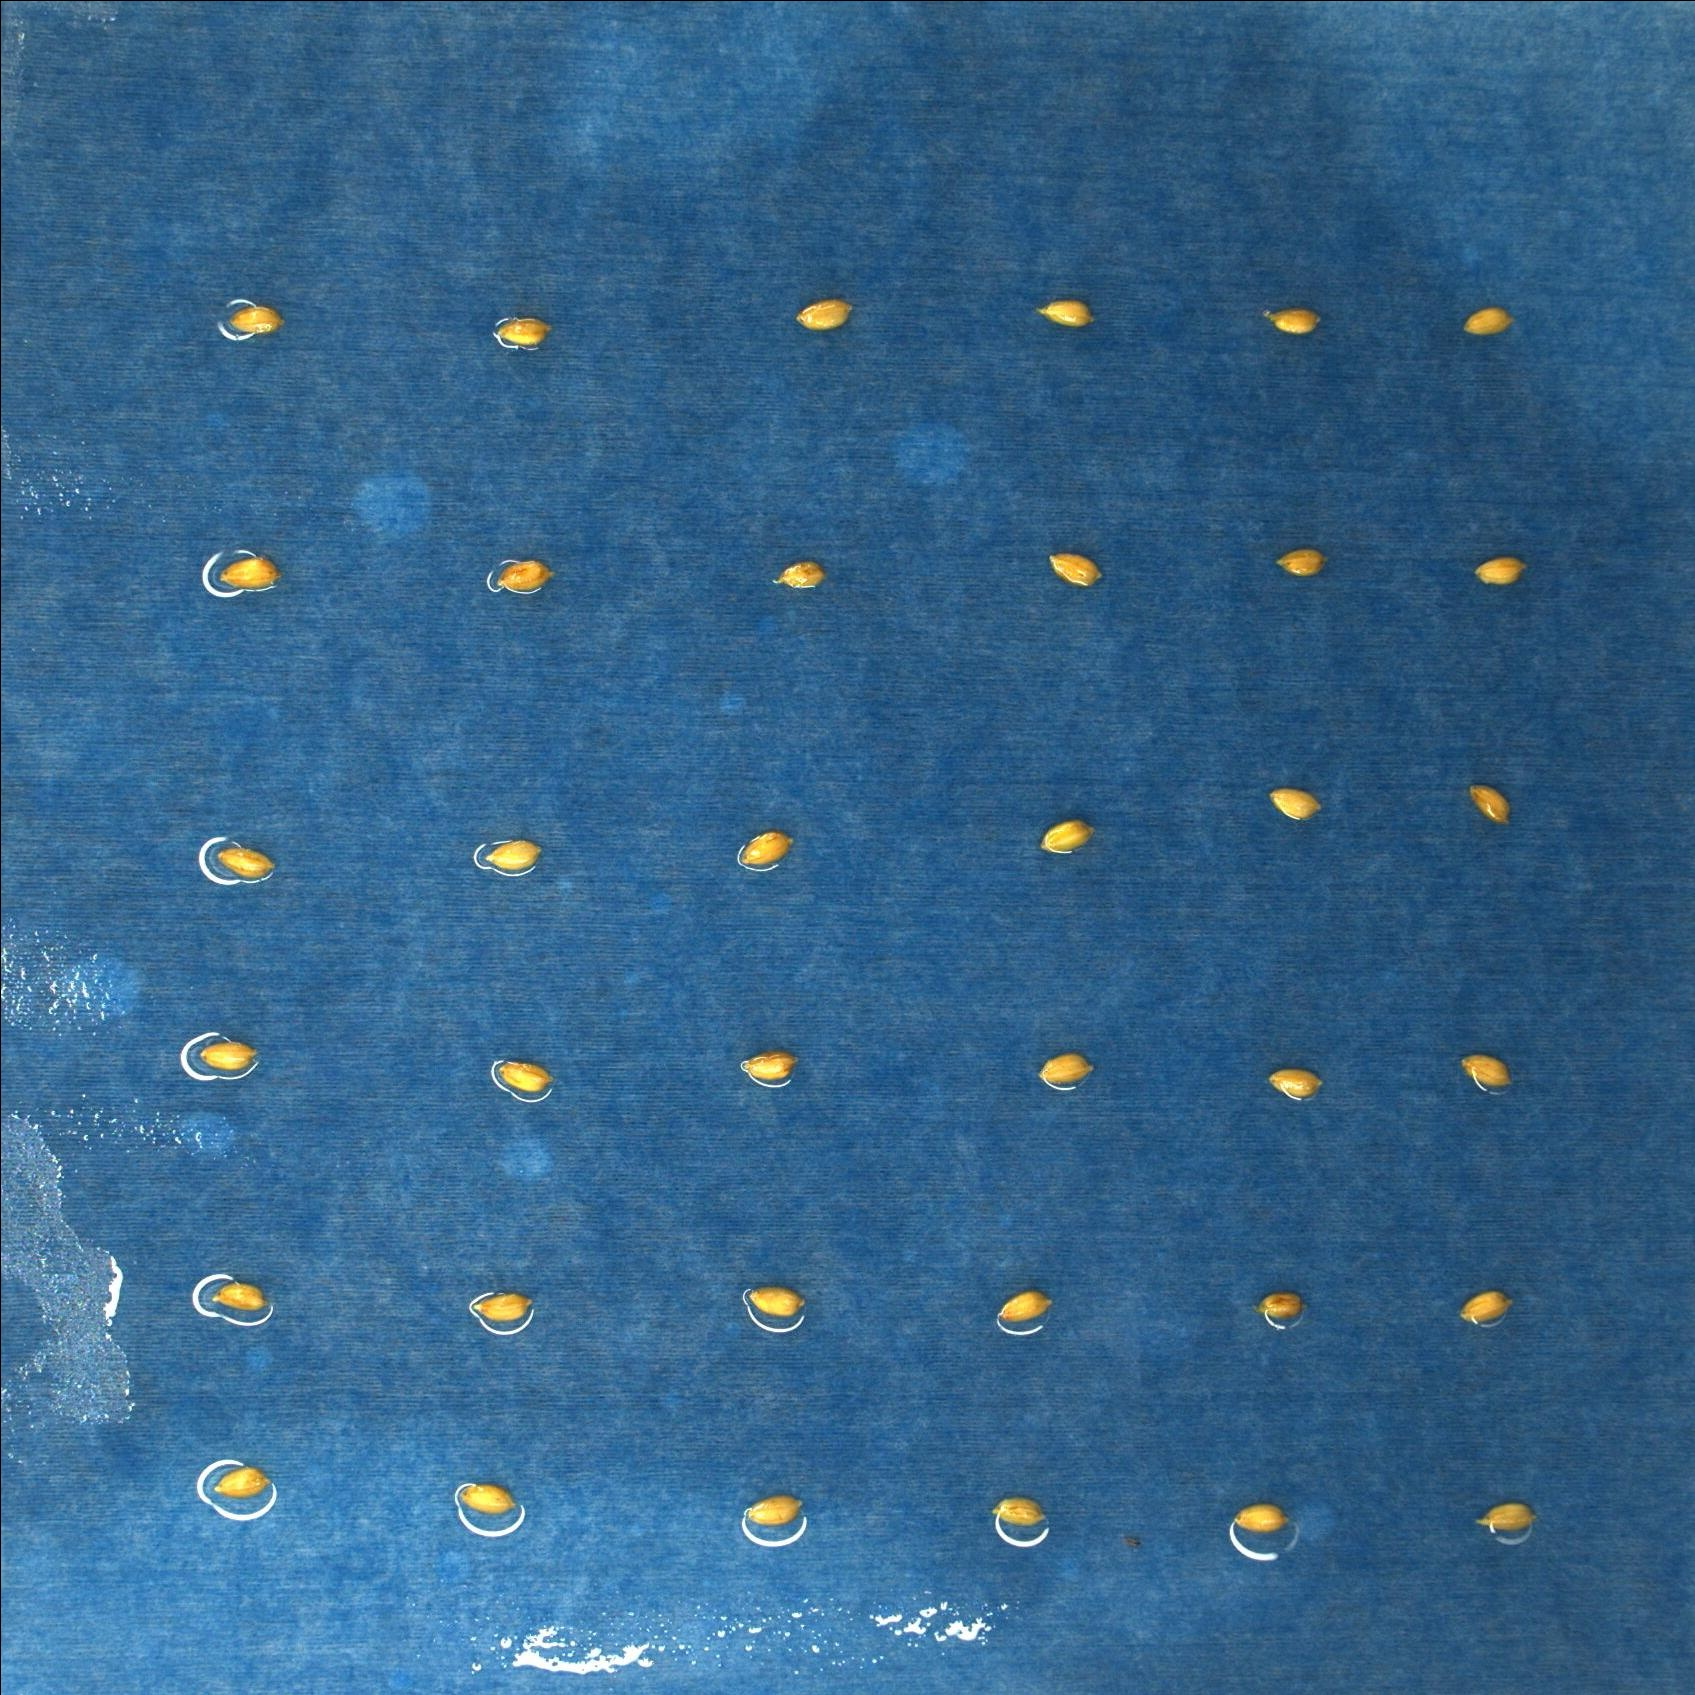not sprout: (1046, 545, 1105, 588), (217, 556, 284, 591), (799, 293, 854, 337), (470, 1287, 539, 1321), (494, 560, 556, 596), (484, 835, 542, 872), (458, 1478, 515, 1515), (737, 1285, 806, 1316), (1035, 816, 1090, 855), (767, 557, 826, 593), (1454, 1293, 1518, 1326), (492, 320, 559, 351), (1262, 1063, 1322, 1097), (1270, 785, 1324, 823), (213, 1465, 275, 1498), (199, 1037, 258, 1071), (737, 832, 793, 868), (1461, 1052, 1516, 1088), (1260, 303, 1321, 335), (1465, 784, 1512, 826), (1038, 296, 1093, 332), (990, 1496, 1052, 1527), (739, 1496, 812, 1523), (1462, 306, 1516, 340), (216, 844, 275, 875), (993, 1288, 1052, 1319), (744, 1046, 799, 1079), (1037, 1054, 1094, 1085), (213, 1279, 265, 1312), (230, 307, 290, 335), (498, 1060, 553, 1091), (1475, 556, 1527, 587), (1476, 1504, 1537, 1530), (1271, 546, 1322, 577), (1232, 1506, 1291, 1532), (1253, 1291, 1304, 1321)
